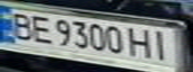0: (103, 24, 127, 56), (87, 20, 106, 53)
3: (69, 19, 90, 51)
9: (48, 16, 75, 47)
B: (3, 10, 39, 40)
E: (27, 14, 57, 44)
H: (127, 25, 157, 61)
I: (145, 28, 181, 61)
